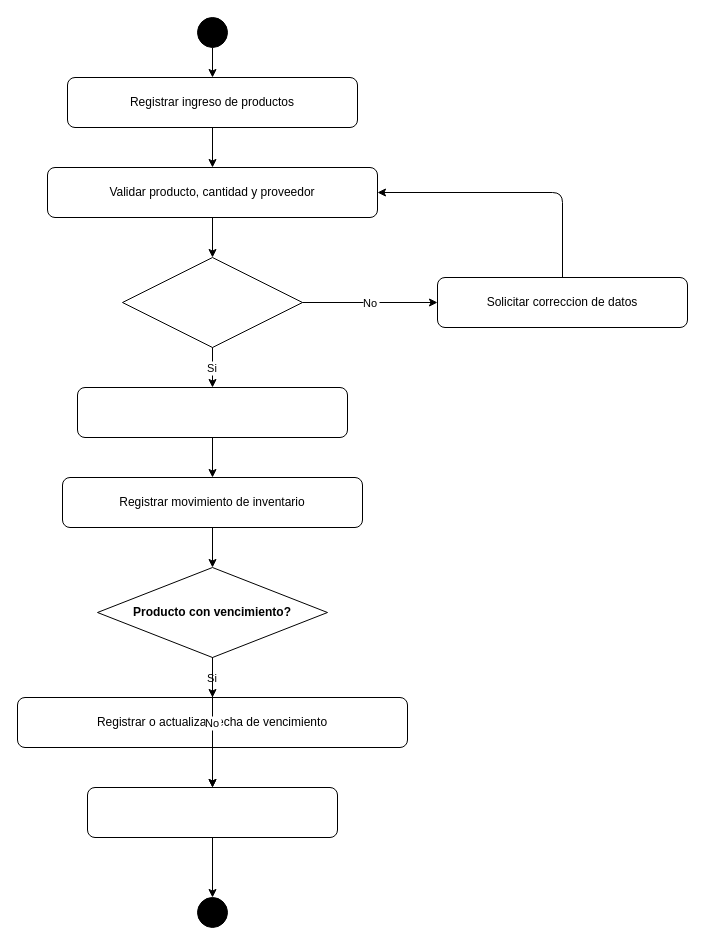
Image size: 705x945. Some labels were removed from this diagram. The centre of each missing label's shape, as x and y in pixels:
"Actualizar stock del producto" goes at point 212,412.
"Datos validos?" goes at point 212,302.
"Generar alerta si corresponde" goes at point 212,812.
